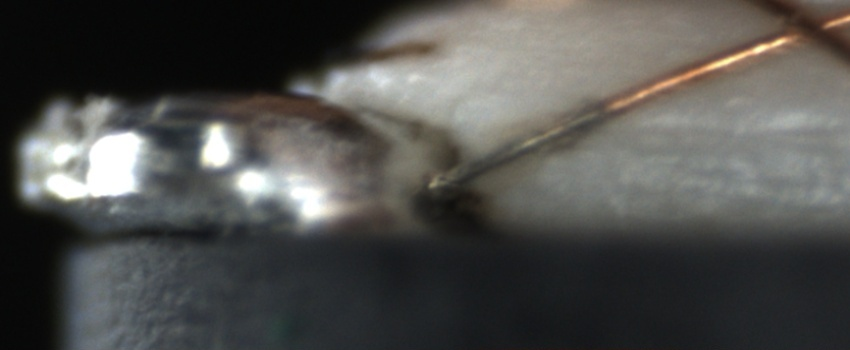CL: (758, 3, 845, 53)
DL: (610, 94, 850, 158)
TS: (429, 102, 608, 195)
TTCW: (436, 86, 637, 190)
